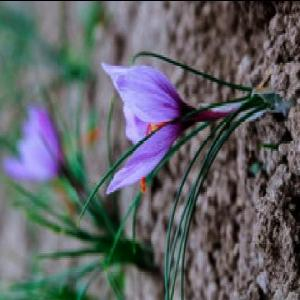Saffron: (105, 64, 210, 193), (1, 104, 69, 176)
